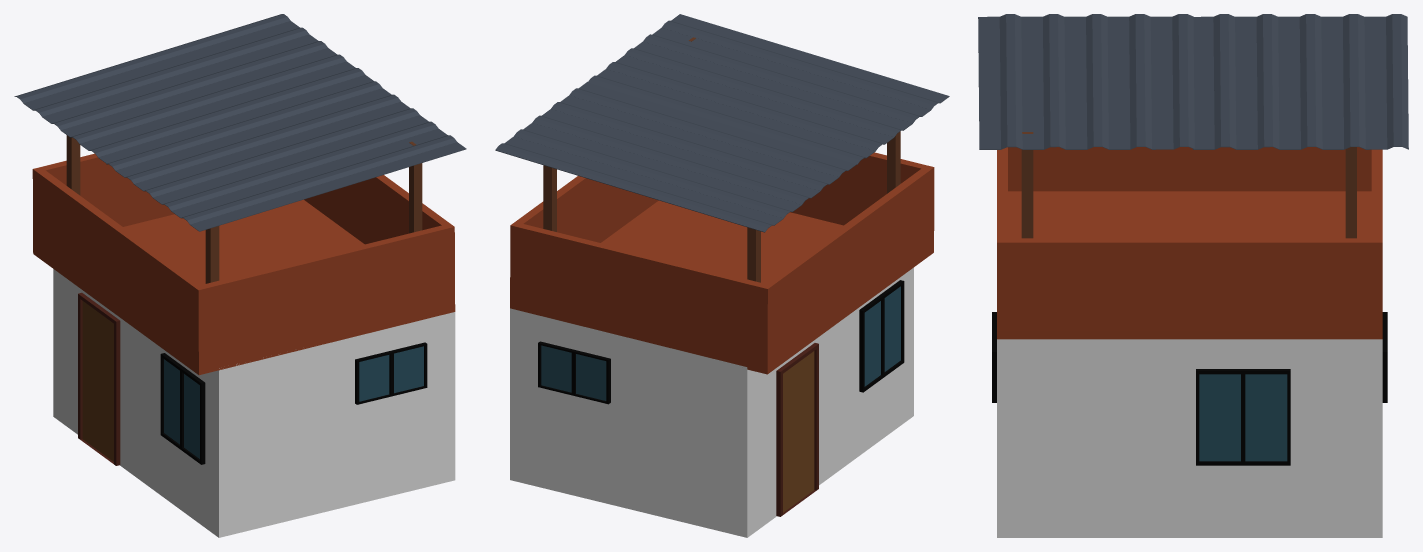
Rendered from Slum 3.fbx.
3 renders of one model, left to right at view 1: azimuth 30°, elevation 25°; view 2: azimuth 150°, elevation 25°; view 3: azimuth 270°, elevation 25°, orthographic. The views are drawn at different scales.
Parts seen in each view (by area): view 1: Cube.003, Roof.004, Cube.002, Cube.018, Door.003, Window 1.005, Window 2.005, Cube.007; view 2: Cube.003, Roof.004, Cube.002, Cube.018, Door.003, Window 1.005, Window 2.006, Cube.007; view 3: Cube.003, Cube.018, Roof.004, Window 1.007, Cube.007, Window 2.006.
Boxes of the visible parts, left/top/right/bottom form: Cube.003: left=32, top=153, right=455, bottom=375; Roof.004: left=14, top=14, right=466, bottom=231; Cube.002: left=219, top=312, right=455, bottom=537; Cube.018: left=53, top=269, right=218, bottom=537; Door.003: left=78, top=292, right=120, bottom=465; Window 1.005: left=160, top=353, right=205, bottom=464; Window 2.005: left=355, top=342, right=427, bottom=404; Cube.007: left=66, top=135, right=422, bottom=283; Cube.003: left=510, top=152, right=934, bottom=374; Roof.004: left=495, top=14, right=949, bottom=232; Cube.002: left=510, top=308, right=747, bottom=537; Cube.018: left=747, top=267, right=913, bottom=537; Door.003: left=776, top=343, right=818, bottom=516; Window 1.005: left=859, top=280, right=904, bottom=392; Window 2.006: left=538, top=341, right=610, bottom=404; Cube.007: left=543, top=37, right=900, bottom=282; Cube.003: left=997, top=147, right=1382, bottom=339; Cube.018: left=997, top=339, right=1382, bottom=537; Roof.004: left=978, top=14, right=1408, bottom=149; Window 1.007: left=1196, top=369, right=1290, bottom=465; Cube.007: left=1021, top=132, right=1356, bottom=238; Window 2.006: left=1382, top=312, right=1387, bottom=402.
Bounding box in the file's own units: 446 × 535 × 531.
